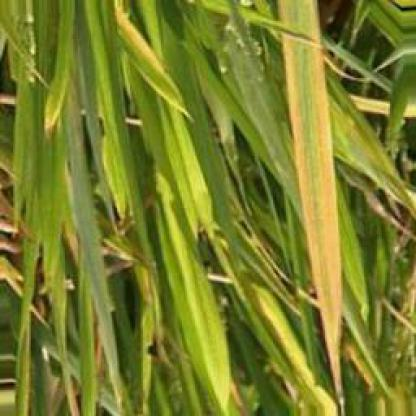Tungro: (279, 5, 351, 416), (113, 8, 191, 119)
